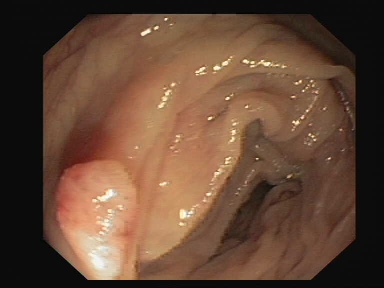polyp: (51, 151, 150, 273)
